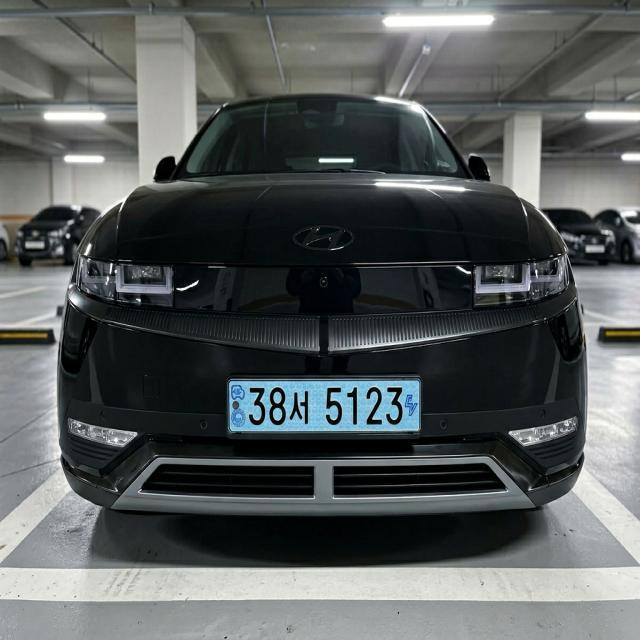car: (213, 364, 437, 450)
carev: (225, 377, 247, 437), (404, 387, 419, 427)
